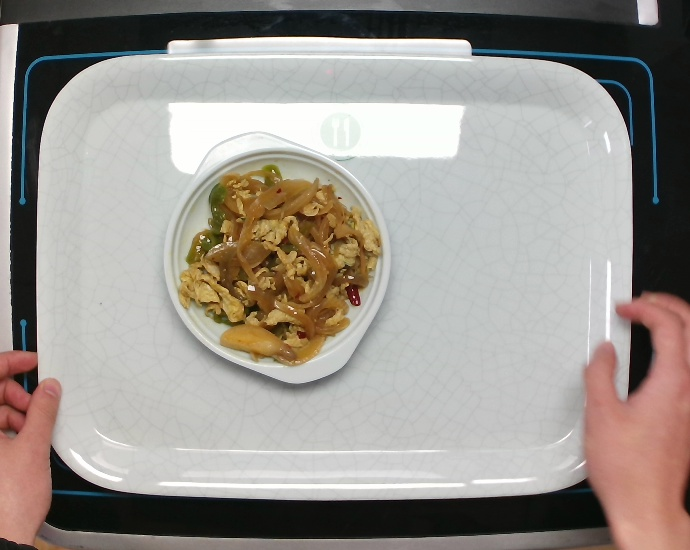JYsf-Shuang_Er_Pan: (161, 127, 394, 389)
